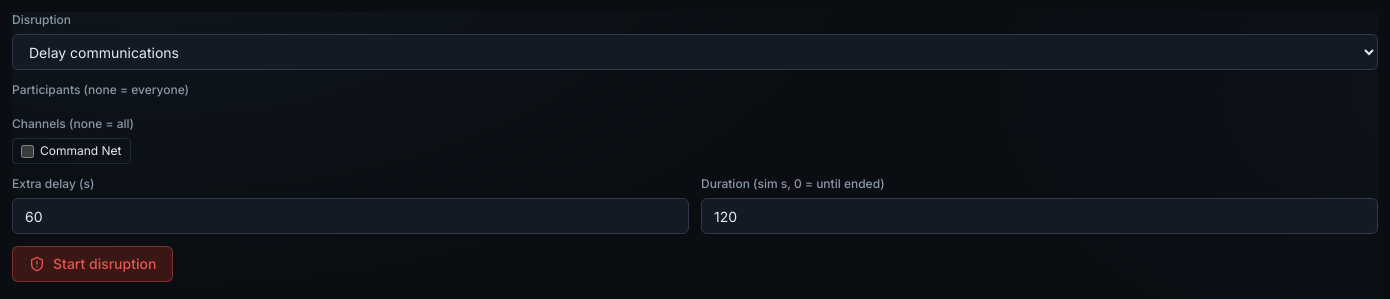
Scenario: Instructor controls › requires a channel for channel failure
Step 1. Select "Channel failure" in the dropdown labelled "Disruption" → x=695, y=52, box x1=12 y1=34 x2=1378 y2=70
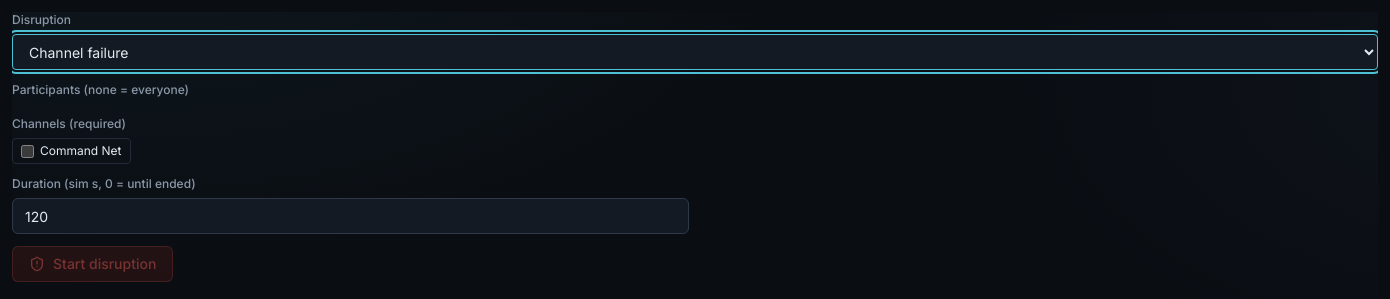
Result: the button "Start disruption" is disabled at x1=12 y1=246 x2=173 y2=282
Step 2. Click the checkbox labelled "Command Net" → x=28, y=151, box x1=21 y1=144 x2=34 y2=158
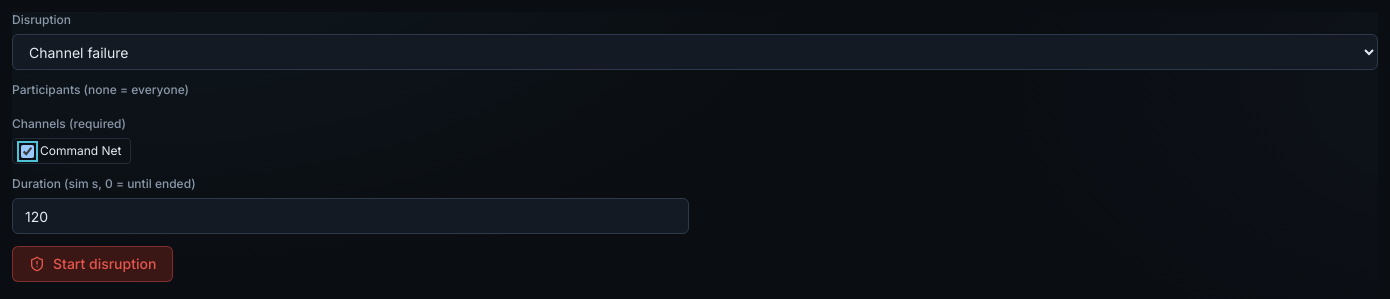
Result: the button "Start disruption" is enabled at x1=12 y1=246 x2=173 y2=282
